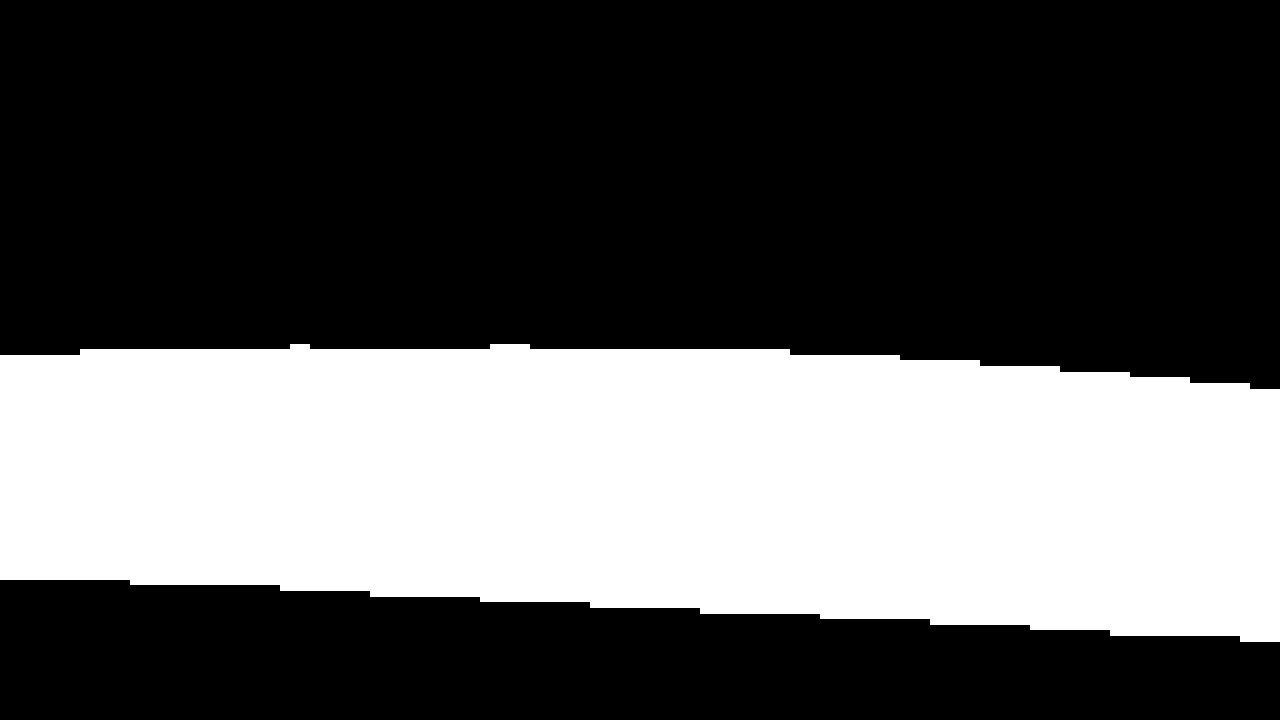Turbine: (8, 315, 1275, 669)
